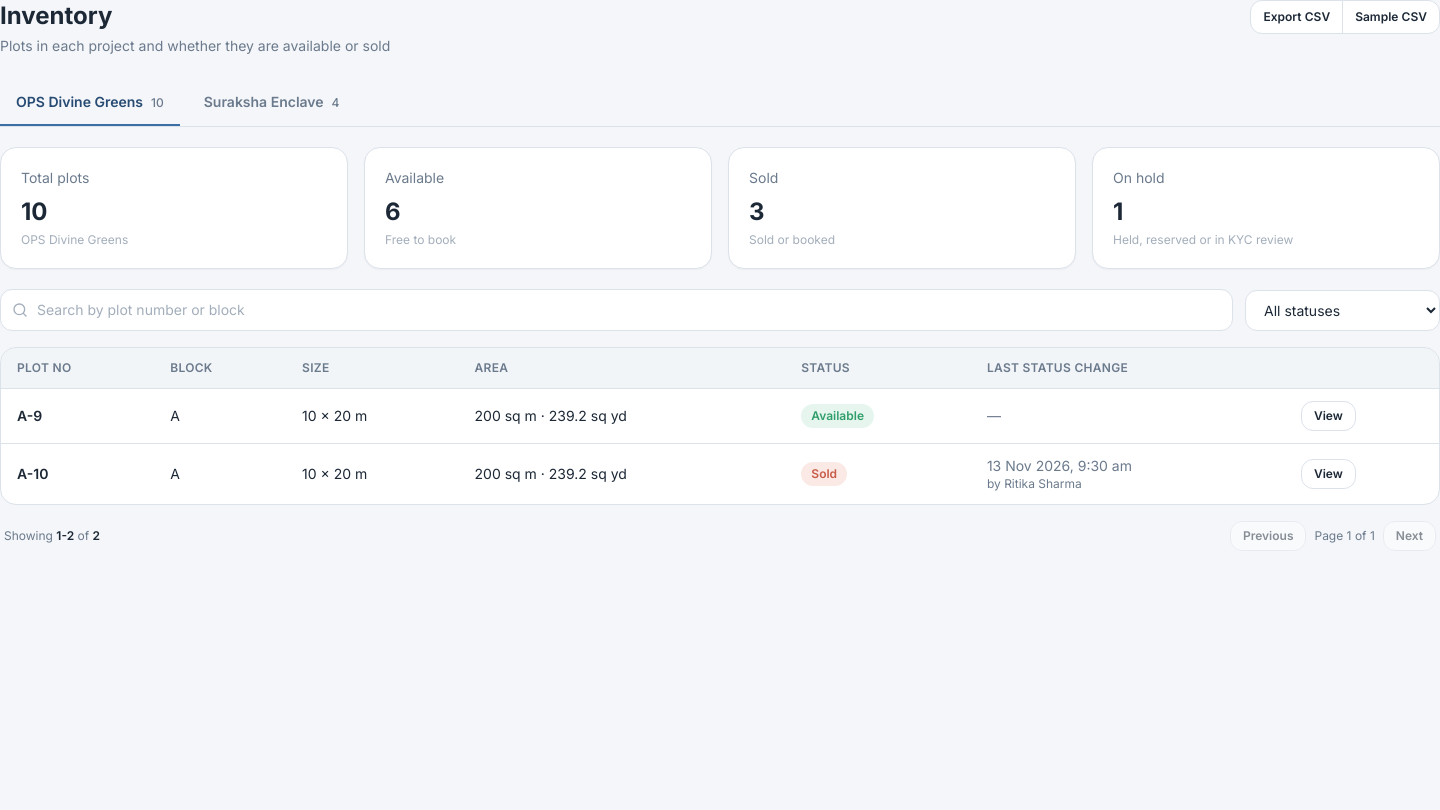
Test case: InventoryPage › explains why a booked plot can't be changed and offers no save
Click the button "View" in the row of "A-9": [1328, 416] box x1=1301 y1=401 x2=1356 y2=431
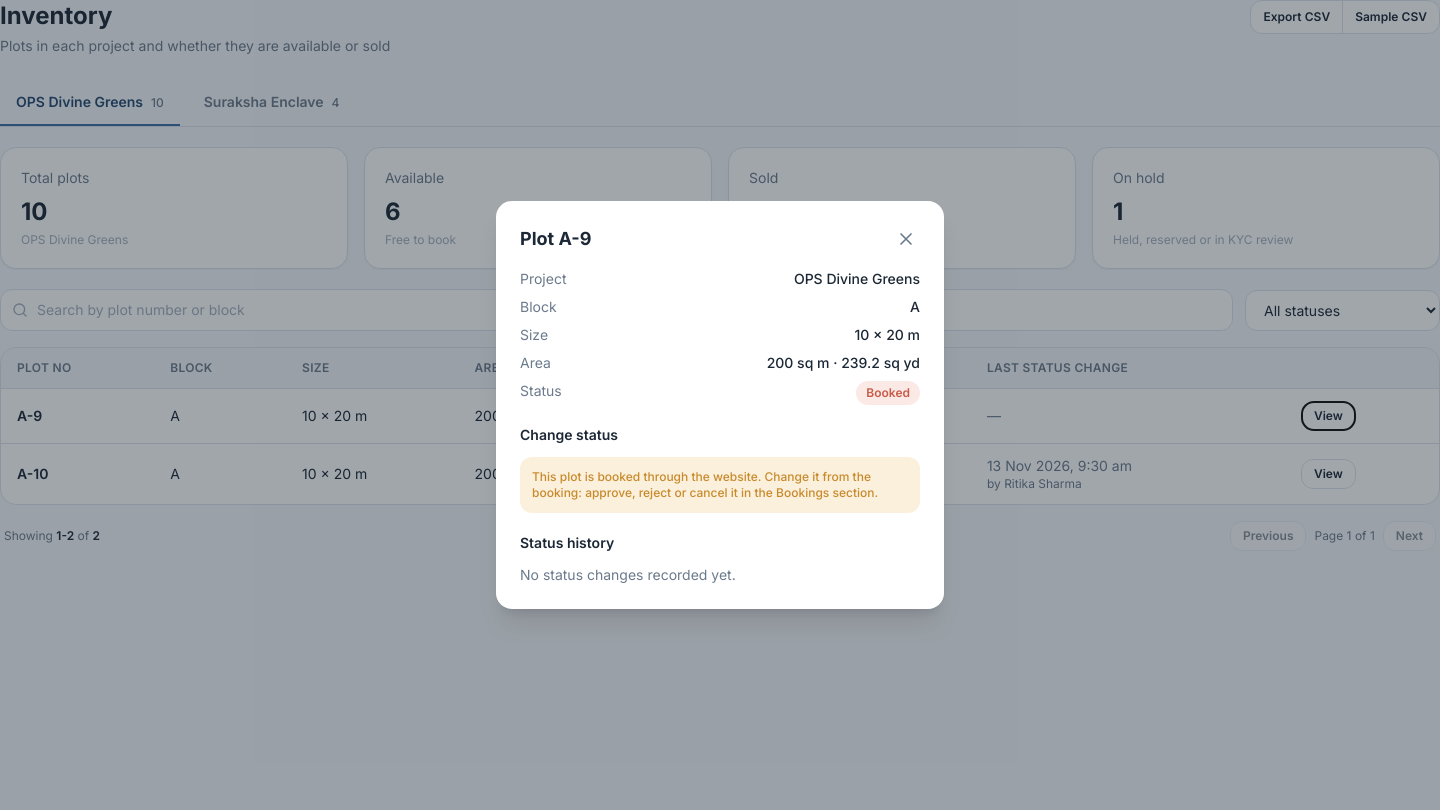
Result: the text "booked through the website" is shown at x1=532 y1=469 x2=878 y2=500
